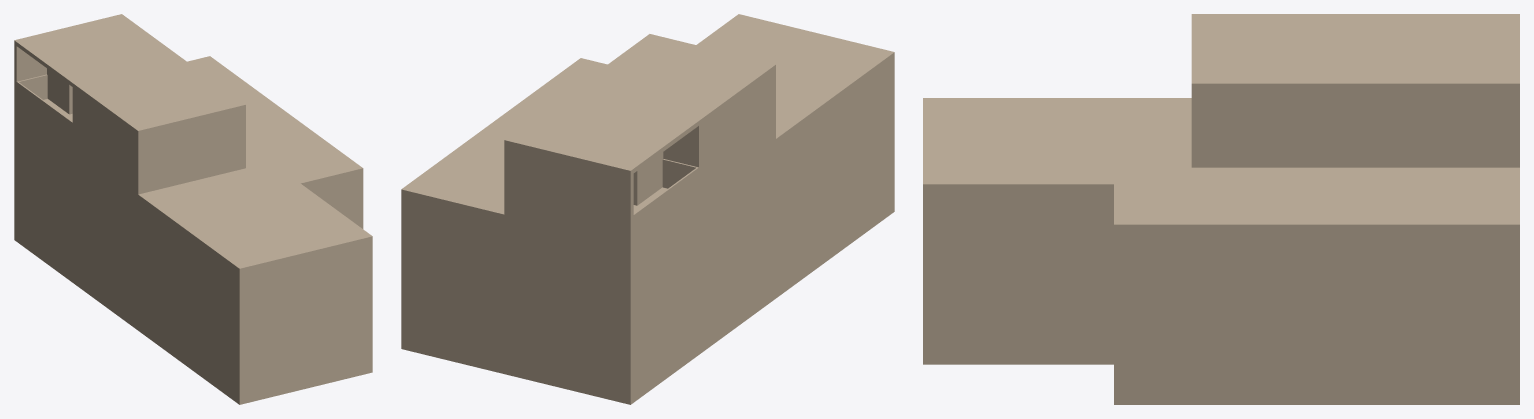
Rendered from massing.glb.
3 renders of one model, left to right at view 1: azimuth 30°, elevation 25°; view 2: azimuth 150°, elevation 25°; view 3: azimuth 270°, elevation 25°, orthographic. The views are drawn at different scales.
Visible parts, largest first — view 1: building/exterior; view 2: building/exterior; view 3: building/exterior.
Boxes of the visible parts, <box> form: building/exterior: <box>14,14,372,404</box>; building/exterior: <box>401,14,894,404</box>; building/exterior: <box>923,14,1519,404</box>.
Bounding box in the file's own units: 9.03 × 8.8 × 18.
